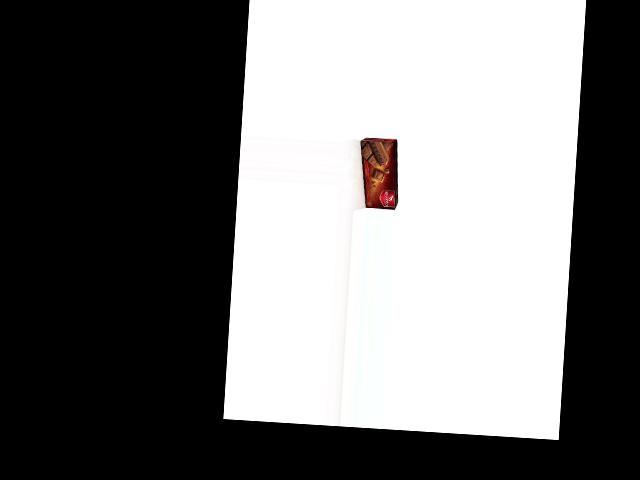chocolate: (355, 138, 402, 210)
